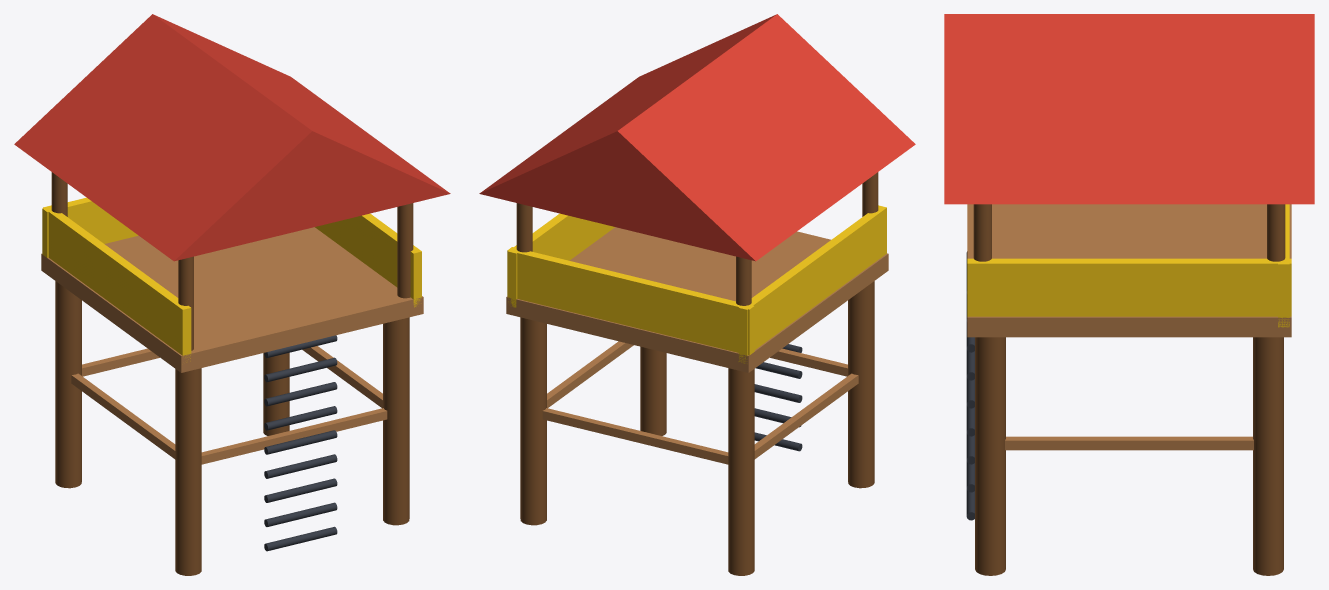
The model's file is watchtower.glb.
3 views of the same model, side by side, from view 1: azimuth 30°, elevation 25°; view 2: azimuth 150°, elevation 25°; view 3: azimuth 270°, elevation 25° (orthographic). The views are drawn at different scales.
Parts seen in each view (by area): view 1: RoofCanopy, Deck, RailingLeft, _MeshInstance3D_46, _MeshInstance3D_48, Stilt, RailingRight, _MeshInstance3D_50, RailingBack, XBrace1, _MeshInstance3D_47, _MeshInstance3D_57 (+12 smaller); view 2: RoofCanopy, Deck, RailingBack, RailingLeft, Stilt, _MeshInstance3D_47, _MeshInstance3D_46, RailingRight, XBrace2, _MeshInstance3D_48, XBrace1, _MeshInstance3D_49 (+4 smaller); view 3: RoofCanopy, Deck, RailingRight, _MeshInstance3D_47, _MeshInstance3D_48, _MeshInstance3D_49, _MeshInstance3D_57, _MeshInstance3D_56, RailingBack.
Part boxes in pixels (box(x1,y1,x2,y2)): RoofCanopy: box(14, 14, 450, 261); Deck: box(41, 227, 423, 372); RailingLeft: box(43, 205, 191, 362); _MeshInstance3D_46: box(175, 368, 201, 575); _MeshInstance3D_48: box(383, 317, 409, 525); Stilt: box(55, 281, 81, 488); RailingRight: box(315, 213, 421, 307); _MeshInstance3D_50: box(201, 408, 387, 464); RailingBack: box(42, 197, 138, 257); XBrace1: box(71, 373, 175, 459); _MeshInstance3D_47: box(263, 352, 289, 435); _MeshInstance3D_57: box(397, 203, 413, 298); RoofCanopy: box(479, 14, 915, 261); Deck: box(506, 227, 888, 372); RailingBack: box(507, 247, 754, 355); RailingLeft: box(738, 205, 886, 363); Stilt: box(728, 368, 754, 575); _MeshInstance3D_47: box(520, 317, 546, 525); _MeshInstance3D_46: box(848, 281, 874, 488); RailingRight: box(508, 213, 614, 307); XBrace2: box(542, 408, 728, 464); _MeshInstance3D_48: box(640, 346, 666, 435); XBrace1: box(754, 373, 858, 459); _MeshInstance3D_49: box(547, 341, 633, 408); RoofCanopy: box(944, 14, 1314, 204); Deck: box(967, 204, 1291, 337); RailingRight: box(967, 258, 1291, 316); _MeshInstance3D_47: box(1253, 337, 1283, 575); _MeshInstance3D_48: box(975, 337, 1005, 575); _MeshInstance3D_49: box(1005, 436, 1253, 450); _MeshInstance3D_57: box(973, 204, 991, 261); _MeshInstance3D_56: box(1267, 204, 1285, 261); RailingBack: box(1278, 204, 1289, 327).
Bounding box in the file's own units: 4.8 × 7.1 × 4.8.
